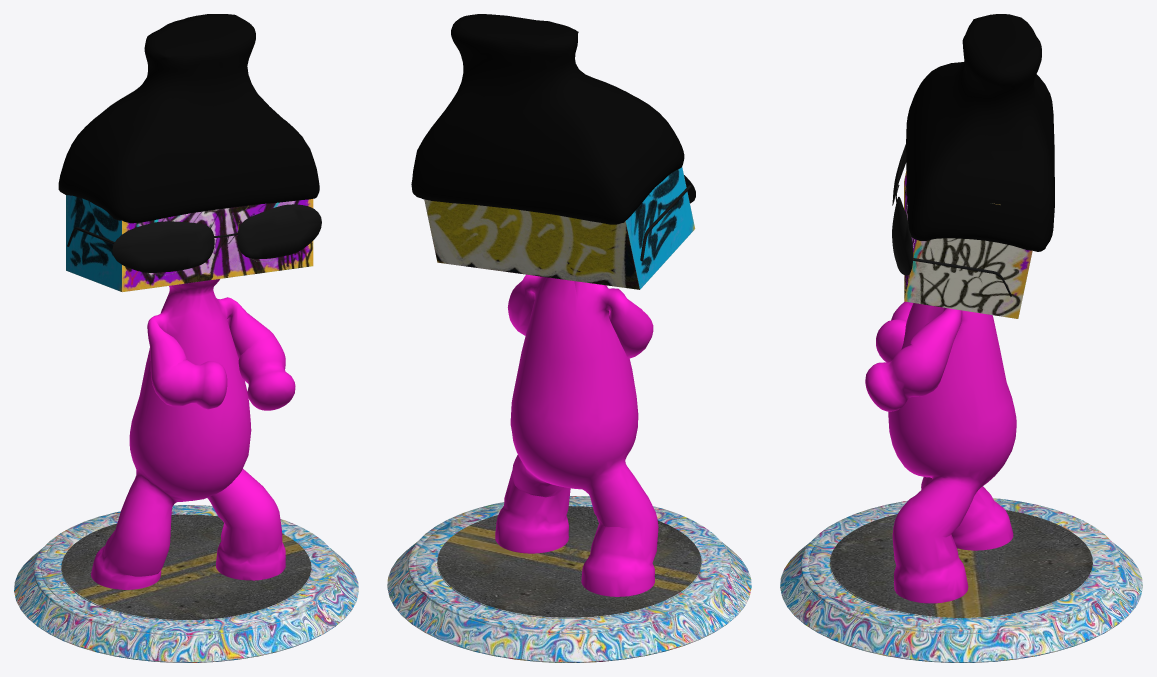
3 renders of one model, left to right at view 1: azimuth 30°, elevation 25°; view 2: azimuth 150°, elevation 25°; view 3: azimuth 270°, elevation 25°, orthographic. The views are drawn at different scales.
Size of the model in its own units: 1.45 by 2.5 by 1.45.
6 materials, 3 textured.
